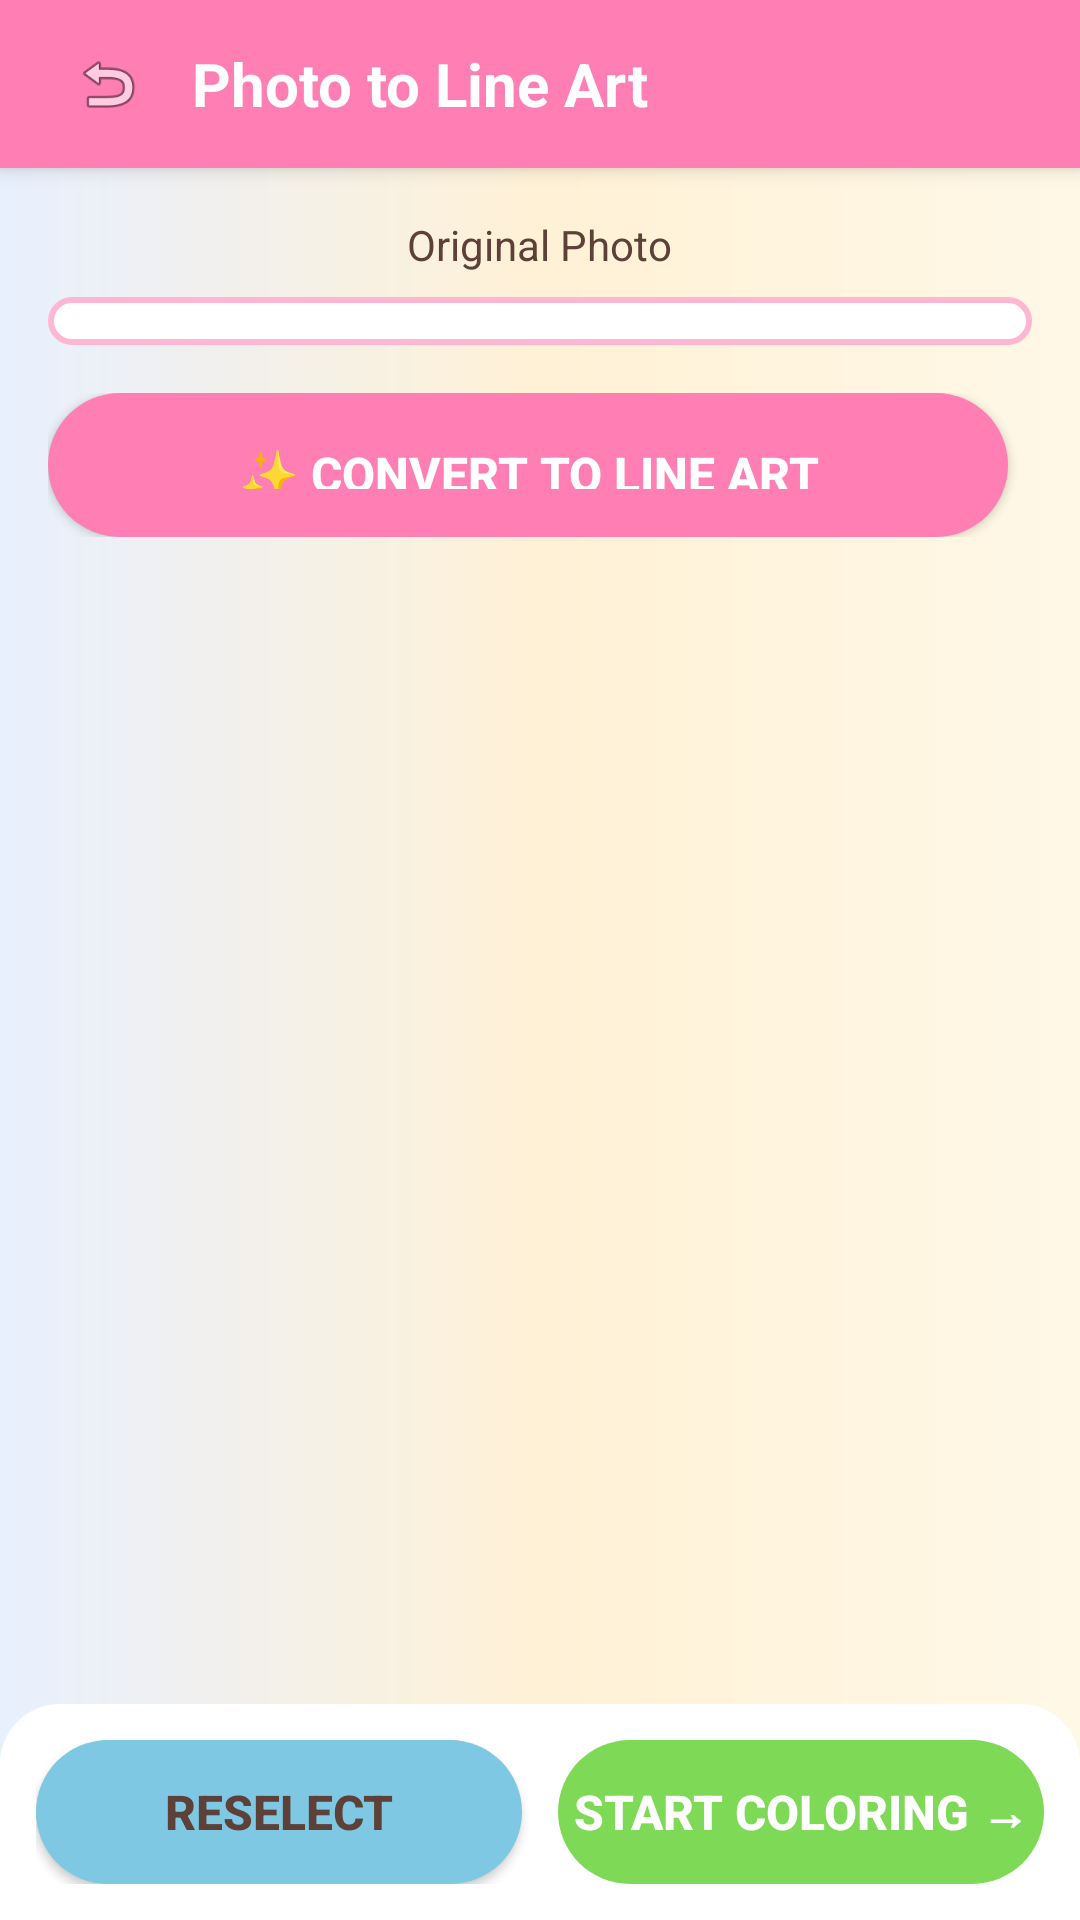

Where to tap for icons on this 1080x1920 app screen, as (x=x, y=y):
返回: (x=109, y=84)
